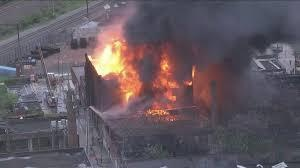fire: (87, 36, 198, 115)
